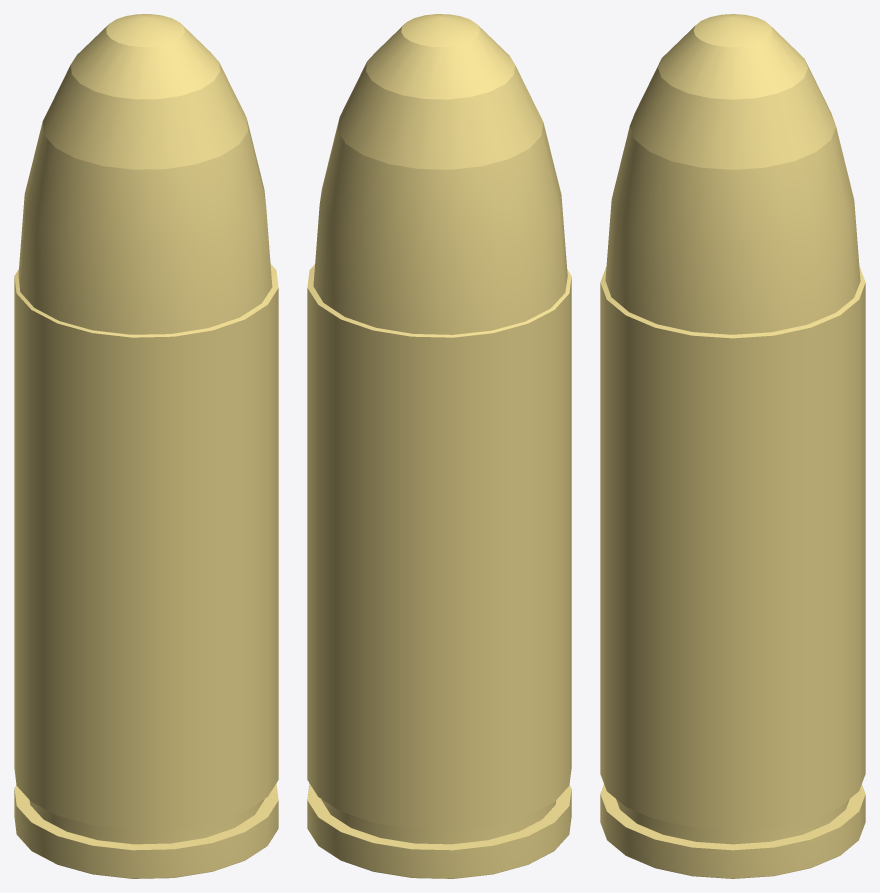
Rendered from FBX_Bullet.fbx.
3 views of the same model, side by side, from view 1: azimuth 30°, elevation 25°; view 2: azimuth 150°, elevation 25°; view 3: azimuth 270°, elevation 25° (orthographic).
Visible parts, largest first — view 1: polySurface14; view 2: polySurface14; view 3: polySurface14.
Boxes of the visible parts, bbox=[...] form: polySurface14: bbox=[14, 14, 278, 878]; polySurface14: bbox=[307, 14, 571, 878]; polySurface14: bbox=[600, 14, 865, 878].
Bounding box in the file's own units: 5.07 × 16.98 × 5.07.
1 material, 1 textured.
